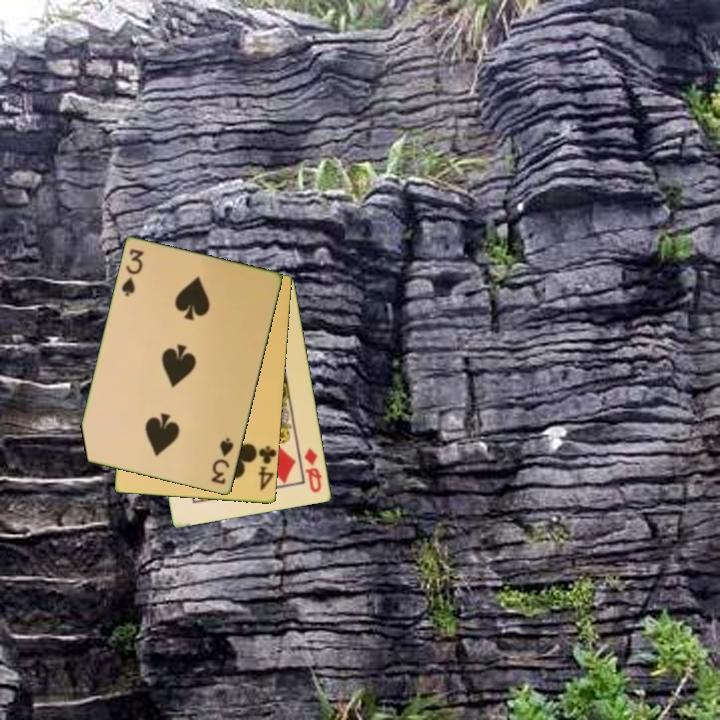3s: (208, 434, 237, 488), (118, 246, 147, 300)
4c: (255, 443, 278, 493)
Qd: (301, 445, 325, 496)
